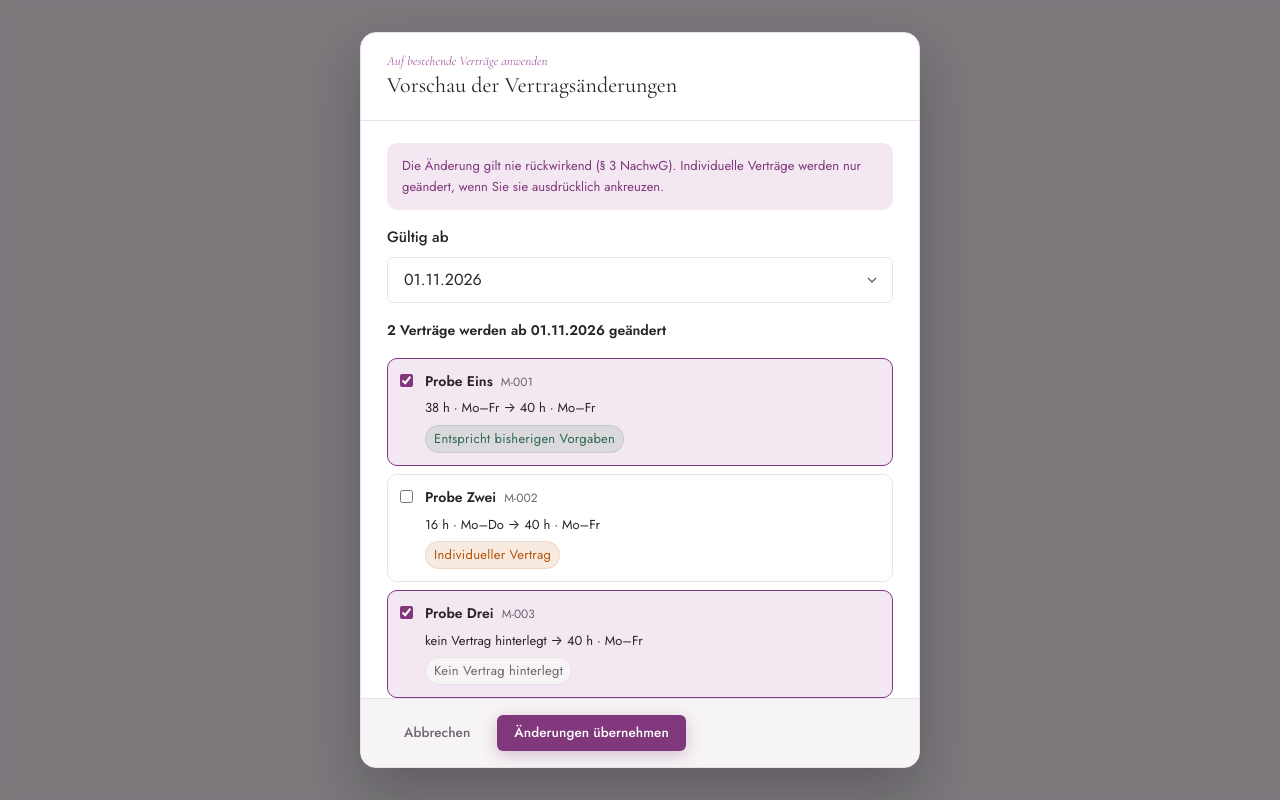
Test: BulkApplyDialog › keeps the dialog open on a stale 409, says so and reloads the preview
The image size is (1280, 800).
Check: the text "Probe Eins" is shown, box [425,371,493,392]
Step 1. Click the checkbox labelled "Probe Zwei" → (406, 496), box [400,490,413,503]
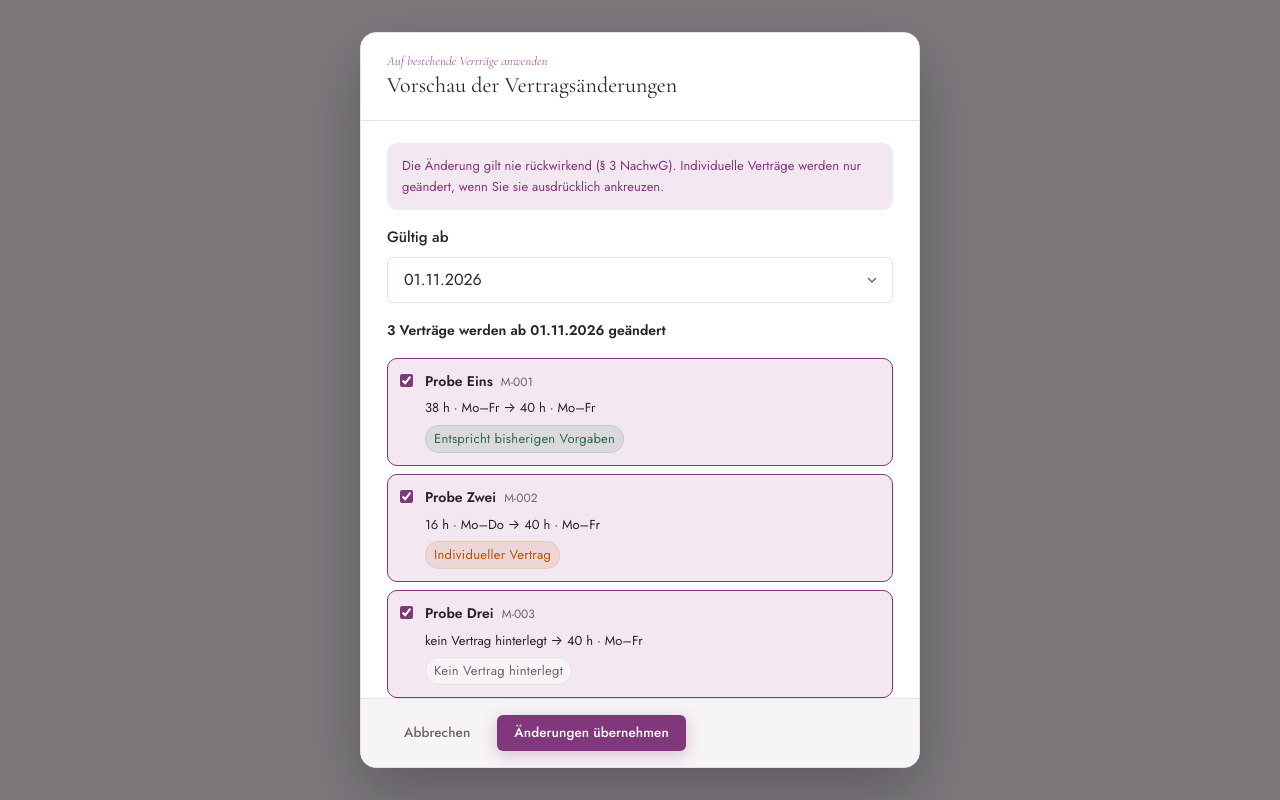
Step 2. Click the button "Änderungen übernehmen" → (592, 733), box [497,715,686,751]
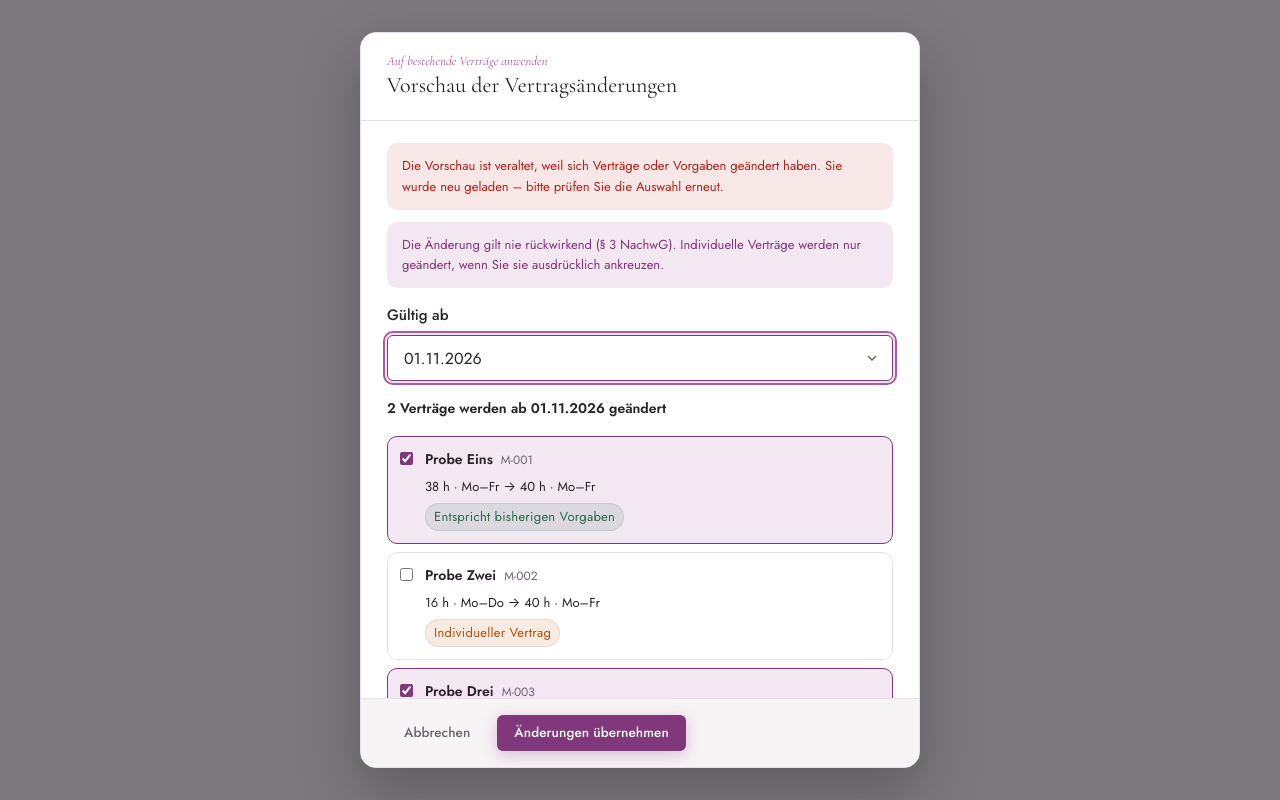
Check: the dialog is shown, box [360,32,920,768]
Check: the checkbox labelled "Probe Zwei" is not checked, box [400,568,413,581]
Check: the text "Die Vorschau ist veraltet" is shown, box [402,156,842,196]
